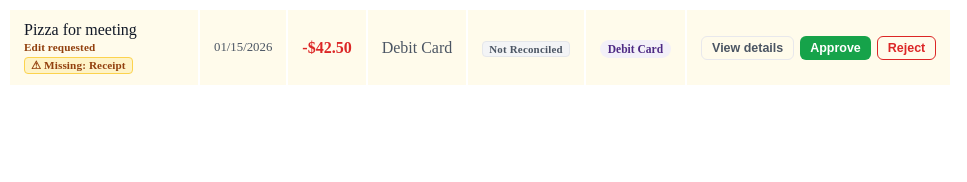
TransactionRow › pending changes › "View details" toggles a before/after diff for edit-type pending changes
The image size is (967, 182).
Expected: the text "Before" is not shown
Click the button "View details". click: click(748, 48)
box: [701,36,794,60]
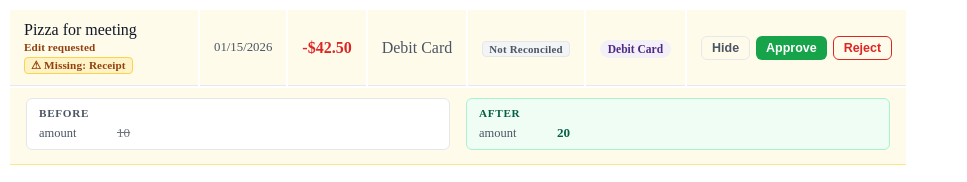
Now the text "Before" is shown, box [39,107,89,119]
Now the text "After" is shown, box [479,107,520,119]
Now the text "10" is shown, box [117,125,130,141]
